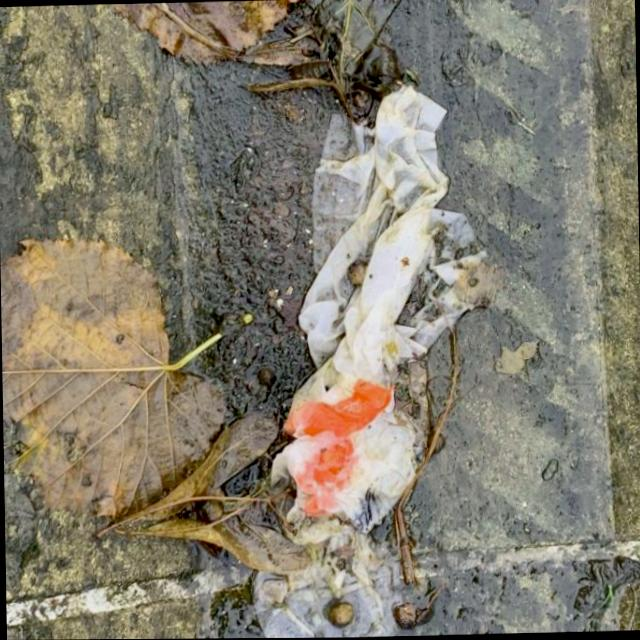Paper: (264, 81, 492, 588)
